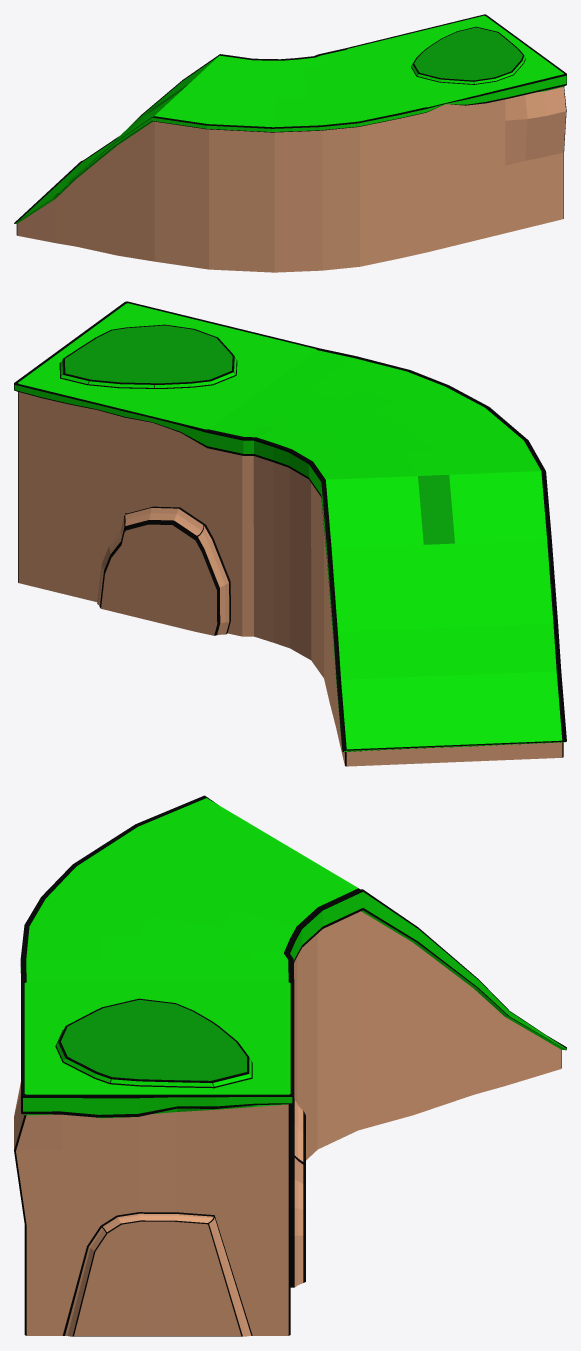
The model's file is CardboardPlatform10.fbx.
3 renders of one model, top to bottom at view 1: azimuth 30°, elevation 25°; view 2: azimuth 150°, elevation 25°; view 3: azimuth 270°, elevation 25°, orthographic. The views are drawn at different scales.
Parts seen in each view (by area): view 1: Cube.056; view 2: Cube.056; view 3: Cube.056.
Part boxes in pixels (left/top/right/bottom): Cube.056: left=14, top=14, right=566, bottom=272; Cube.056: left=14, top=301, right=566, bottom=766; Cube.056: left=14, top=795, right=566, bottom=1336.
Bounding box in the file's own units: 2037 × 664 × 1335.
